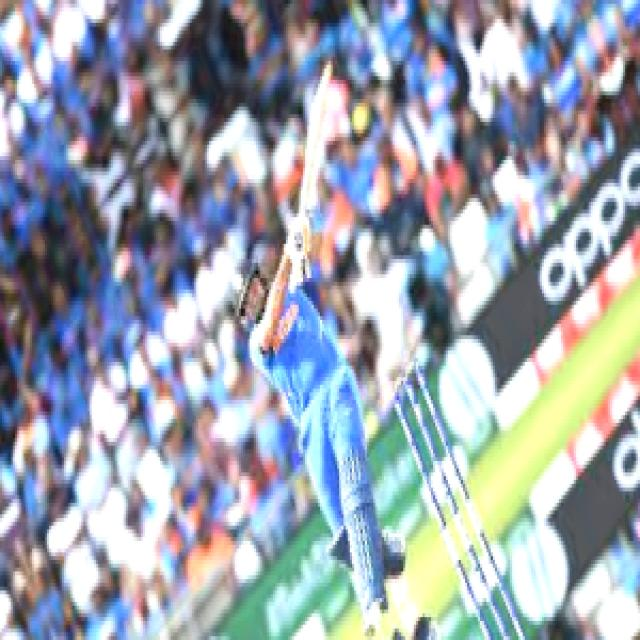toe: (316, 56, 334, 96)
